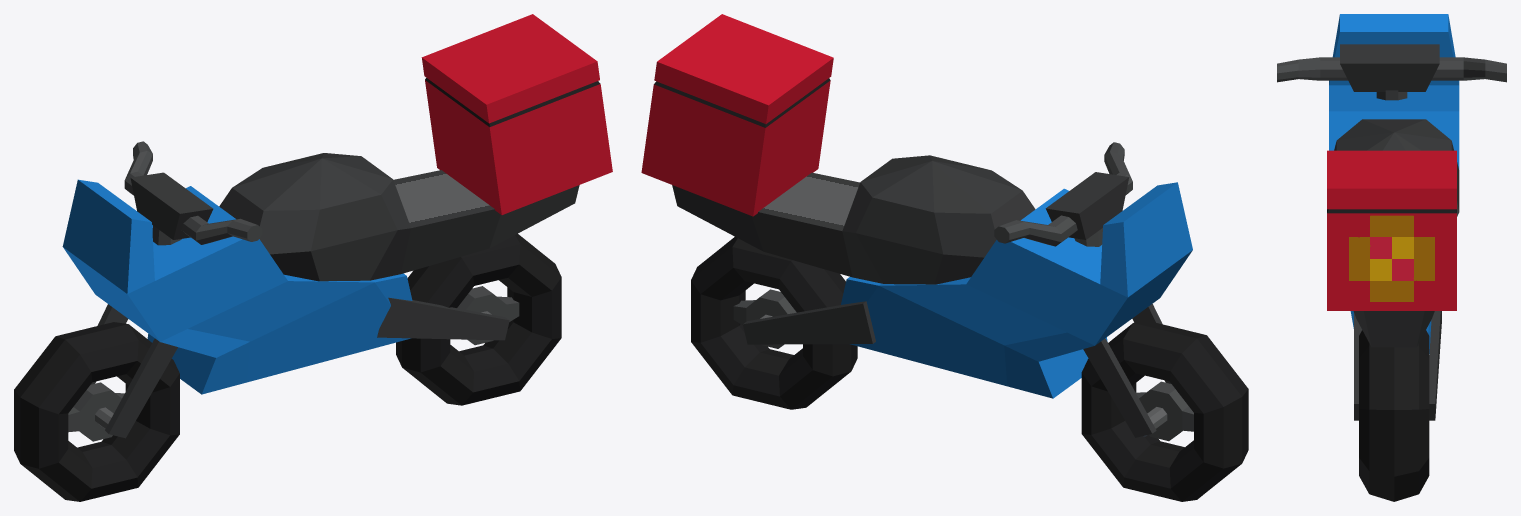
Rendered from deliveryman.fbx.
3 views of the same model, side by side, from view 1: azimuth 30°, elevation 25°; view 2: azimuth 150°, elevation 25°; view 3: azimuth 270°, elevation 25° (orthographic).
Visible parts, largest first — view 1: cube, cube_6, tank, torus_1, torus, cube_2, cube_5, cube_4, cylinder_5, cylinder_2, cylinder; view 2: cube, cube_6, tank, torus_1, torus, cube_1, cube_5, cube_3, cylinder_5, cylinder_2, cylinder; view 3: cube_6, torus, cube, tank, cube_5, cylinder_5, cube_1, cube_2, cylinder_4.
Boxes of the visible parts, x1,y1,x2,y2 form: cube: [62, 179, 412, 394]; cube_6: [421, 14, 612, 214]; tank: [219, 153, 579, 281]; torus_1: [14, 322, 179, 501]; torus: [396, 233, 561, 405]; cube_2: [377, 297, 509, 340]; cube_5: [130, 172, 213, 239]; cube_4: [105, 338, 177, 438]; cylinder_5: [124, 141, 262, 244]; cylinder_2: [68, 382, 124, 441]; cylinder: [457, 286, 519, 345]; cube: [841, 182, 1192, 398]; cube_6: [641, 14, 833, 216]; tank: [672, 155, 1035, 284]; torus_1: [1081, 321, 1248, 501]; torus: [691, 237, 857, 409]; cube_1: [742, 301, 875, 344]; cube_5: [1045, 172, 1129, 239]; cube_3: [1083, 338, 1156, 437]; cylinder_5: [994, 142, 1132, 246]; cylinder_2: [1136, 381, 1193, 441]; cylinder: [733, 289, 796, 348]; cube_6: [1327, 150, 1456, 310]; torus: [1359, 330, 1429, 501]; cube: [1329, 14, 1459, 353]; tank: [1334, 119, 1459, 347]; cube_5: [1340, 44, 1439, 91]; cylinder_5: [1277, 57, 1506, 82]; cube_1: [1429, 311, 1441, 420]; cube_2: [1354, 313, 1361, 420]; cylinder_4: [1376, 90, 1407, 100].
Size of the model in its own units: 188 by 108 by 66.25.
2 materials, 2 textured.
